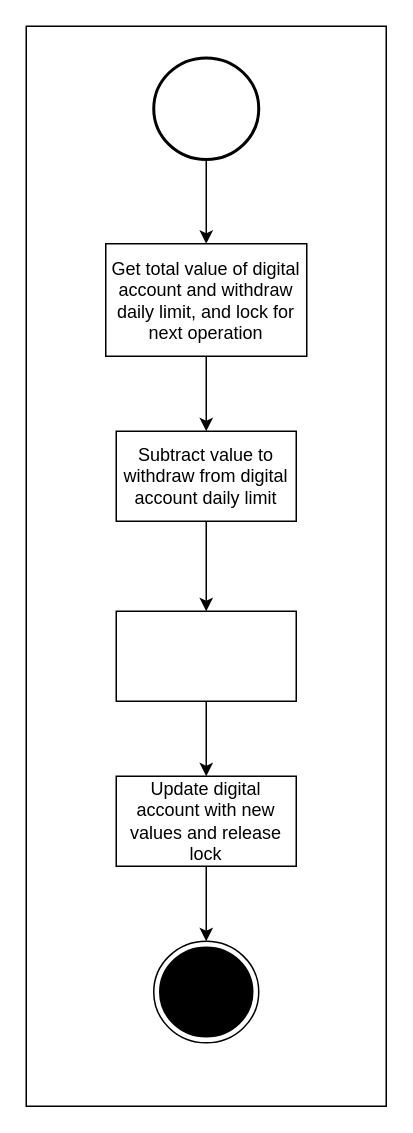
This 413x1133 diagram has some shape labels left out. Each missing label, with the box of its shape:
Start: (152, 56, 260, 160)
Subtract value to withdraw from digital account total: (115, 610, 296, 701)
